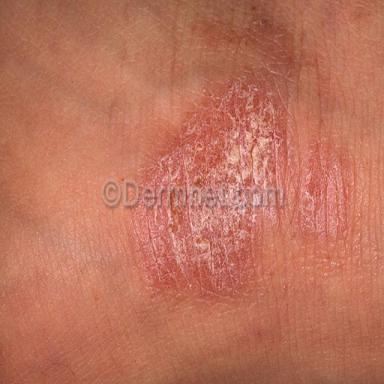Psoriasis: (140, 17, 295, 186), (129, 208, 282, 301), (296, 134, 347, 240)
